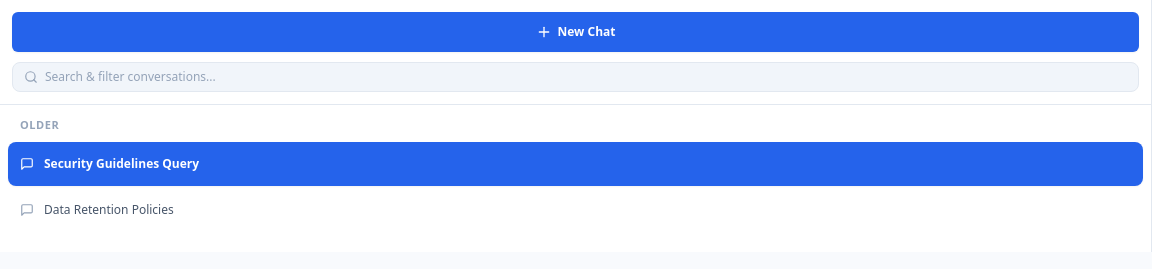
Test: Chat UI Components & Interactions › ConversationSidebar › renders conversation items and filters by search query
expect the text "Security Guidelines Query" is shown: met, box [44,156,199,171]
expect the text "Data Retention Policies" is shown: met, box [44,202,174,217]
Type "Retention" into the field with placeholder "Search & filter conversations..." at (576, 77), box [12,62,1139,92]
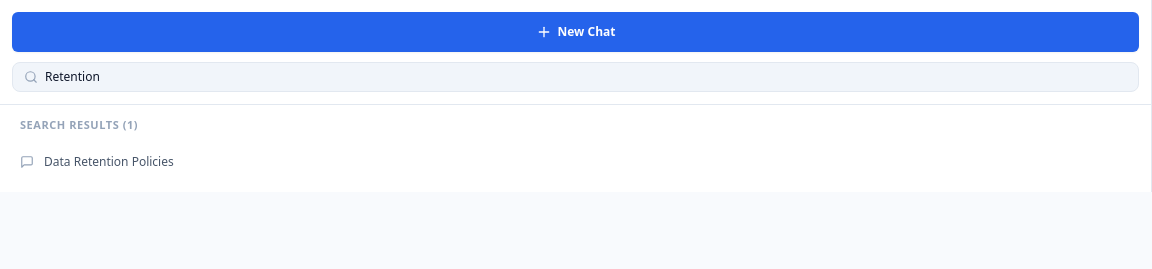
expect the text "Data Retention Policies" is shown: met, box [44,154,174,169]
expect the button "Security Guidelines Query" is gone: met
